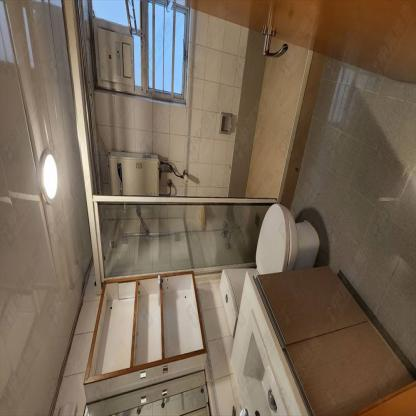Thermo Ventilator: (94, 19, 134, 86)
Toilet: (217, 205, 323, 335)
Toilet Sink: (242, 331, 281, 415)
Water Cubicle: (85, 193, 275, 282)
Water Heater: (107, 151, 161, 205)
